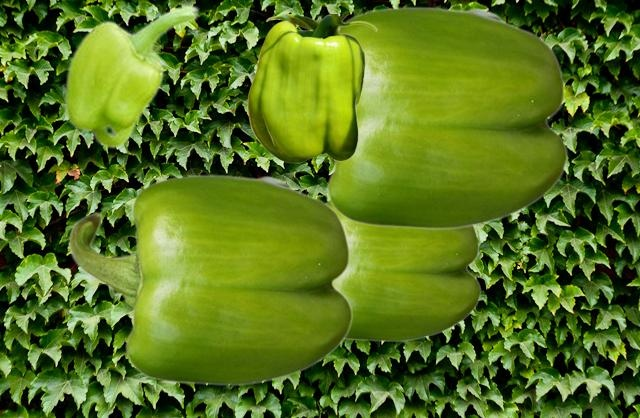bell_pepper: (68, 174, 352, 385), (324, 6, 567, 229), (326, 200, 480, 341), (63, 4, 199, 148), (247, 14, 376, 162)
